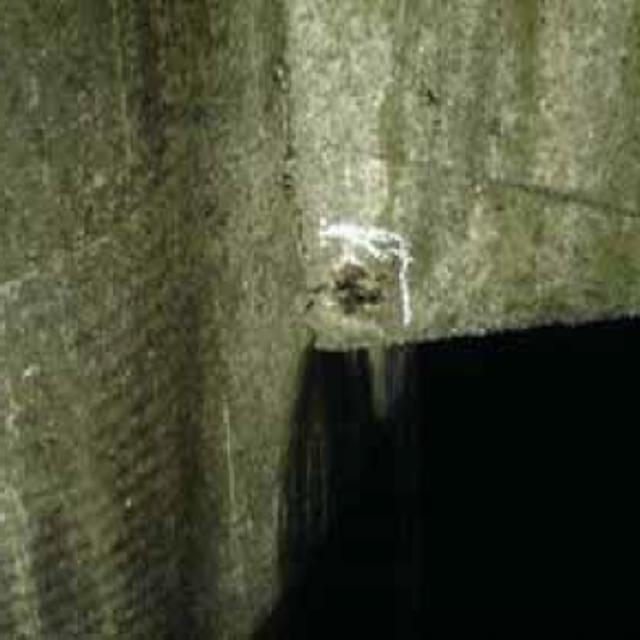spalling: (307, 220, 416, 357)
